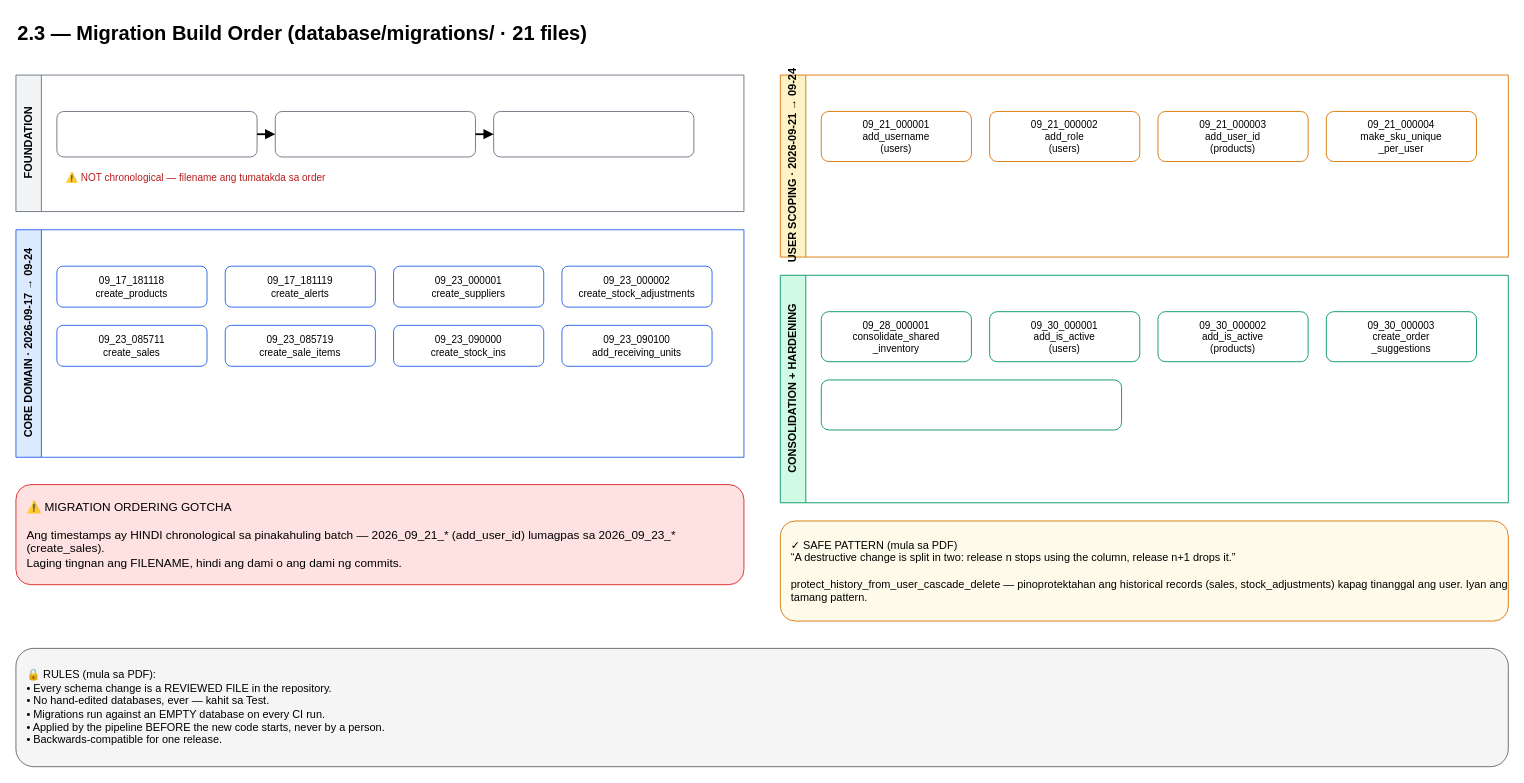
The diagram is 1524 pixels wide and 783 high, and some of its shapes have lost their labels. Each missing label, with the centre of its shape:
"0001_01_01_000000 create_users_table" belongs at [156,134].
"0001_01_01_000001 create_cache_table" belongs at [374,134].
"0001_01_01_000002 create_jobs_table" belongs at [593,134].
"09_30_000004 protect_history_from _user_cascade_delete" belongs at [971,404].
